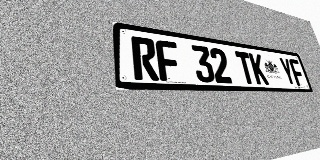2: (209, 47, 232, 83)
3: (191, 45, 216, 83)
F: (155, 39, 182, 82), (288, 59, 306, 86)
K: (248, 53, 269, 85)
R: (131, 36, 159, 81)
T: (235, 51, 256, 84)
Y: (278, 57, 297, 86)
